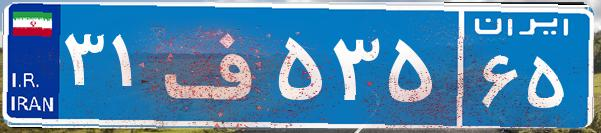1: (110, 28, 158, 105)
3: (330, 28, 385, 110), (57, 26, 110, 107)
5: (385, 28, 445, 110), (273, 28, 330, 110), (525, 38, 570, 115)
6: (475, 38, 525, 113)
ف: (158, 15, 273, 115)
